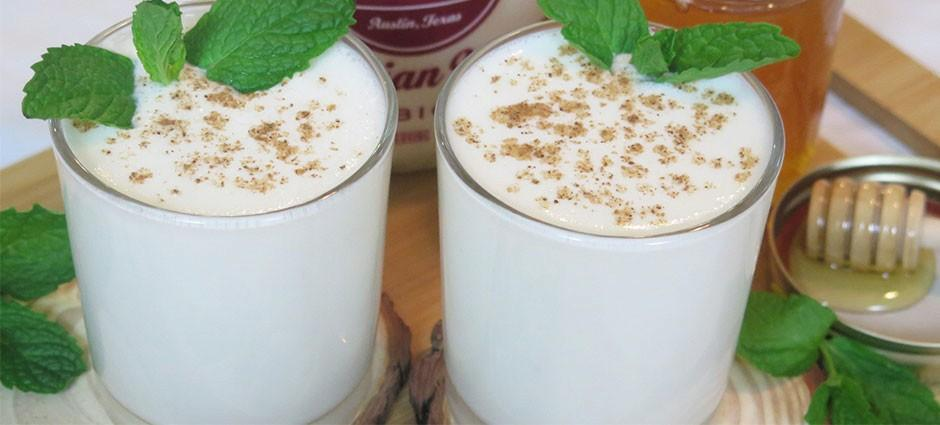Lassi: (435, 0, 783, 425), (49, 7, 405, 412)
